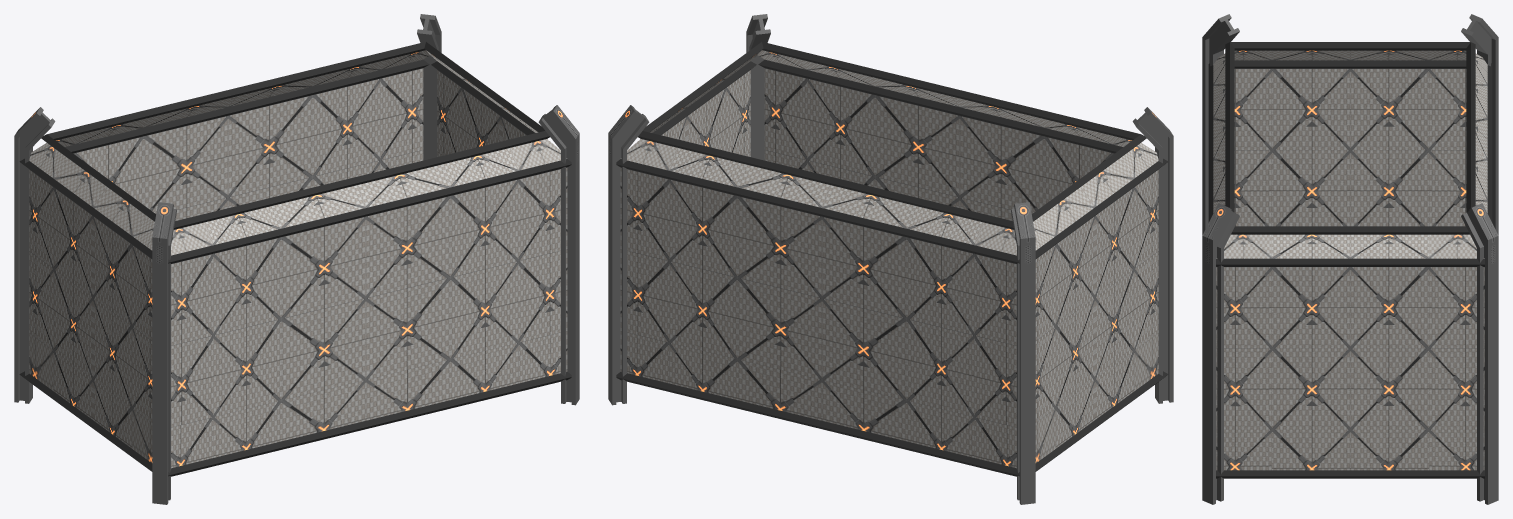
The picture shows the model from 3 angles, left to right: view 1: azimuth 30°, elevation 25°; view 2: azimuth 150°, elevation 25°; view 3: azimuth 270°, elevation 25°; orthographic projection.
Visible parts, largest first — view 1: Plane.006; view 2: Plane.006; view 3: Plane.006.
Part boxes in pixels (x1,y1,x2,y2): Plane.006: (14, 14, 579, 504); Plane.006: (608, 14, 1173, 504); Plane.006: (1202, 14, 1498, 504).
Bounding box in the file's own units: 50.45 × 32.9 × 30.45.
Materials: 1 (1 with a texture image).
